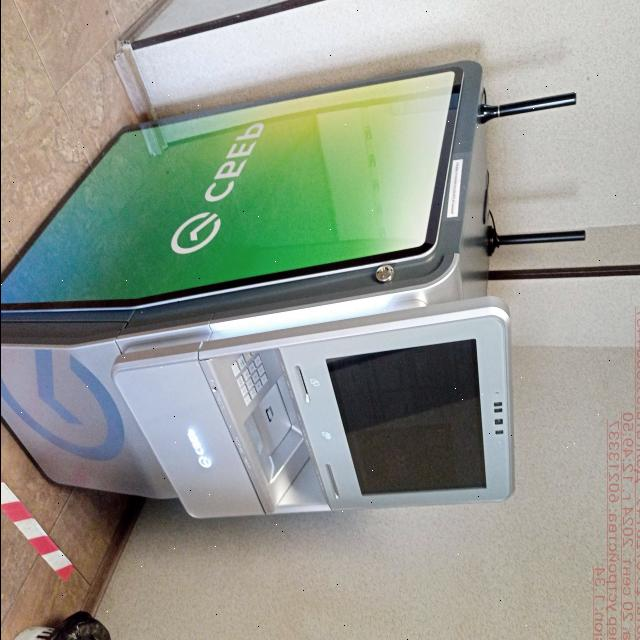bank: (0, 63, 519, 512)
